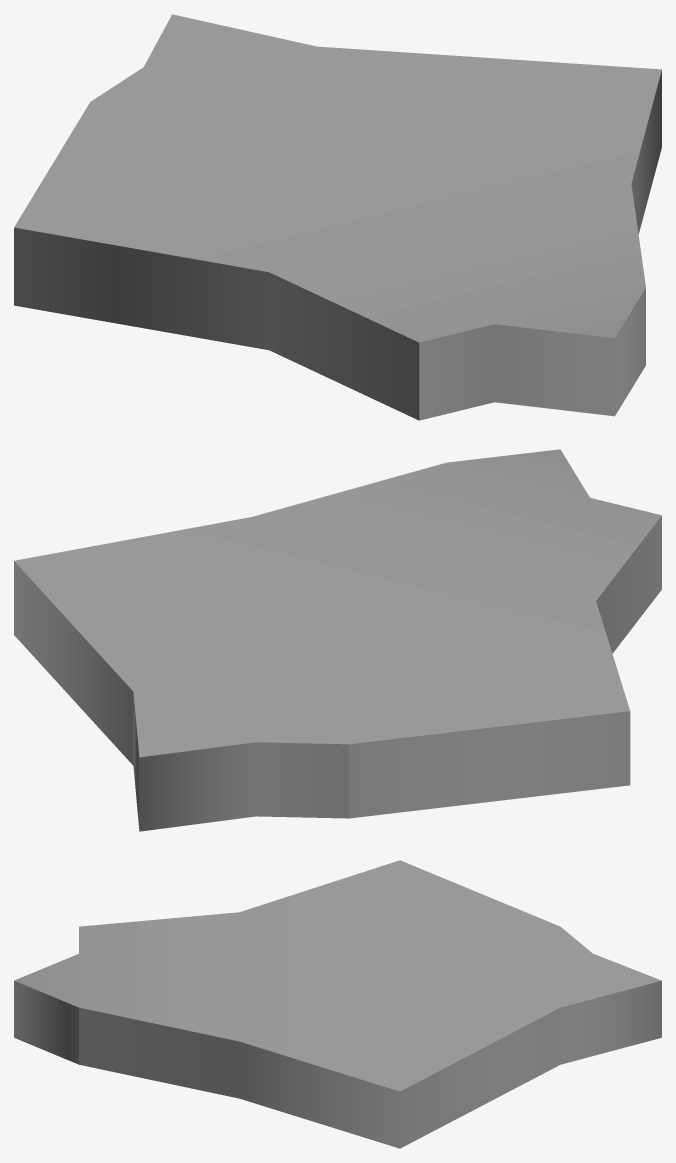
File: Rock 36.FBX
3 renders of one model, top to bottom at view 1: azimuth 30°, elevation 25°; view 2: azimuth 150°, elevation 25°; view 3: azimuth 270°, elevation 25°, orthographic. The views are drawn at different scales.
Parts seen in each view (by area): view 1: Box001; view 2: Box001; view 3: Box001.
Part boxes in pixels (x1,y1,x2,y2): Box001: [14, 14, 661, 420]; Box001: [14, 449, 661, 831]; Box001: [14, 860, 661, 1148].
Size of the model in its own units: 42.26 by 4.86 by 50.01.
